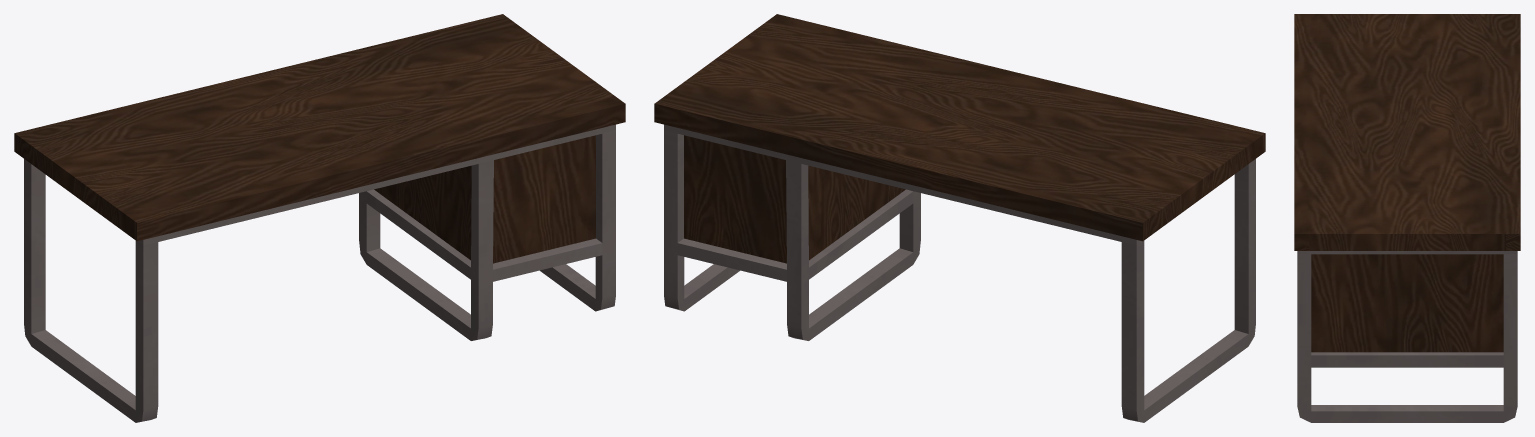
Rendered from Table.glb.
The picture shows the model from 3 angles, left to right: view 1: azimuth 30°, elevation 25°; view 2: azimuth 150°, elevation 25°; view 3: azimuth 270°, elevation 25°; orthographic projection. The views are drawn at different scales.
Visible parts, largest first — view 1: Table; view 2: Table; view 3: Table.
Boxes of the visible parts, x1=… form: Table: x1=14, y1=14, x2=625, y2=422; Table: x1=654, y1=14, x2=1265, y2=422; Table: x1=1294, y1=14, x2=1520, y2=422.
Bounding box in the file's own units: 2.46 × 1.01 × 1.07.
Materials: 2 (2 with a texture image).
